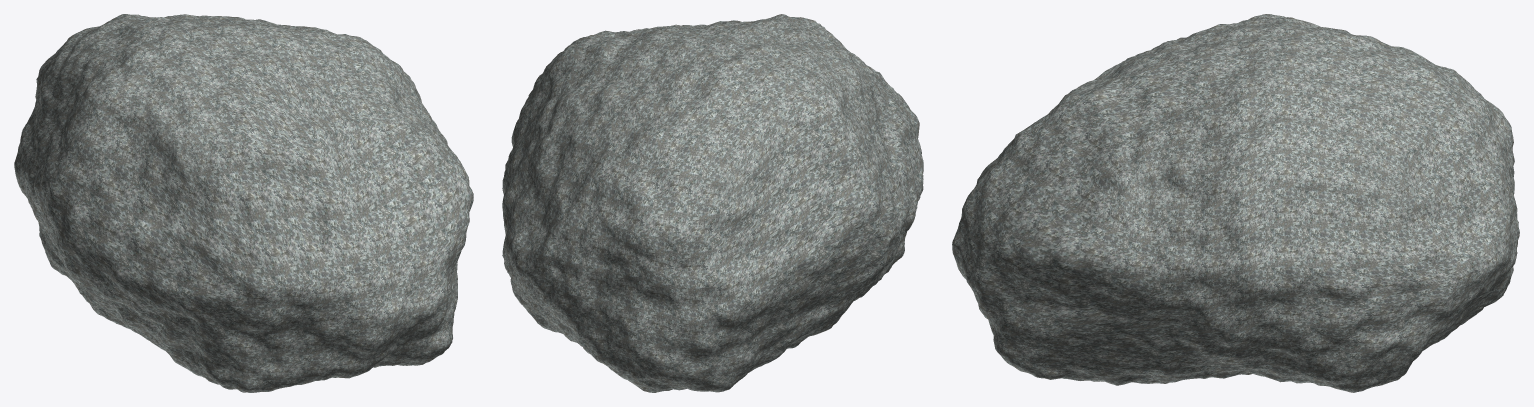
Rendered from rock.fbx.
3 renders of one model, left to right at view 1: azimuth 30°, elevation 25°; view 2: azimuth 150°, elevation 25°; view 3: azimuth 270°, elevation 25°, orthographic. The views are drawn at different scales.
Parts seen in each view (by area): view 1: Cube; view 2: Cube; view 3: Cube.
Part boxes in pixels (x1=…): Cube: x1=14, y1=14, x2=473, y2=392; Cube: x1=502, y1=14, x2=923, y2=392; Cube: x1=952, y1=14, x2=1519, y2=392.
Size of the model in its own units: 1.69 by 1.24 by 2.17.
